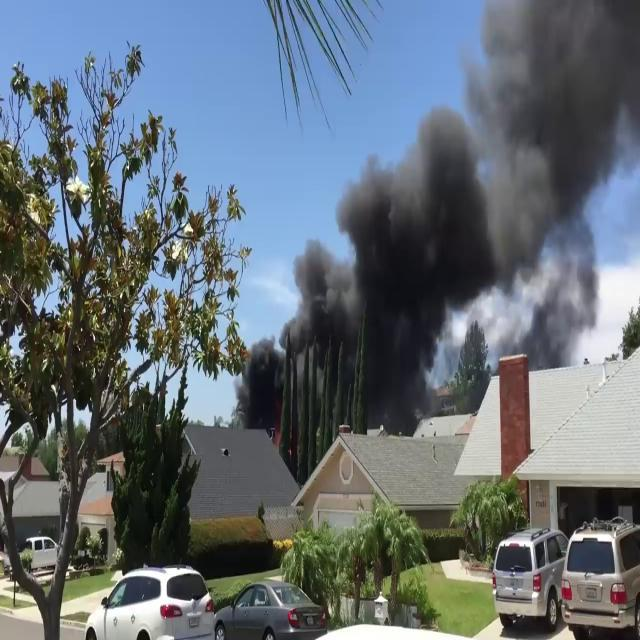Smoke: (312, 0, 640, 396)
